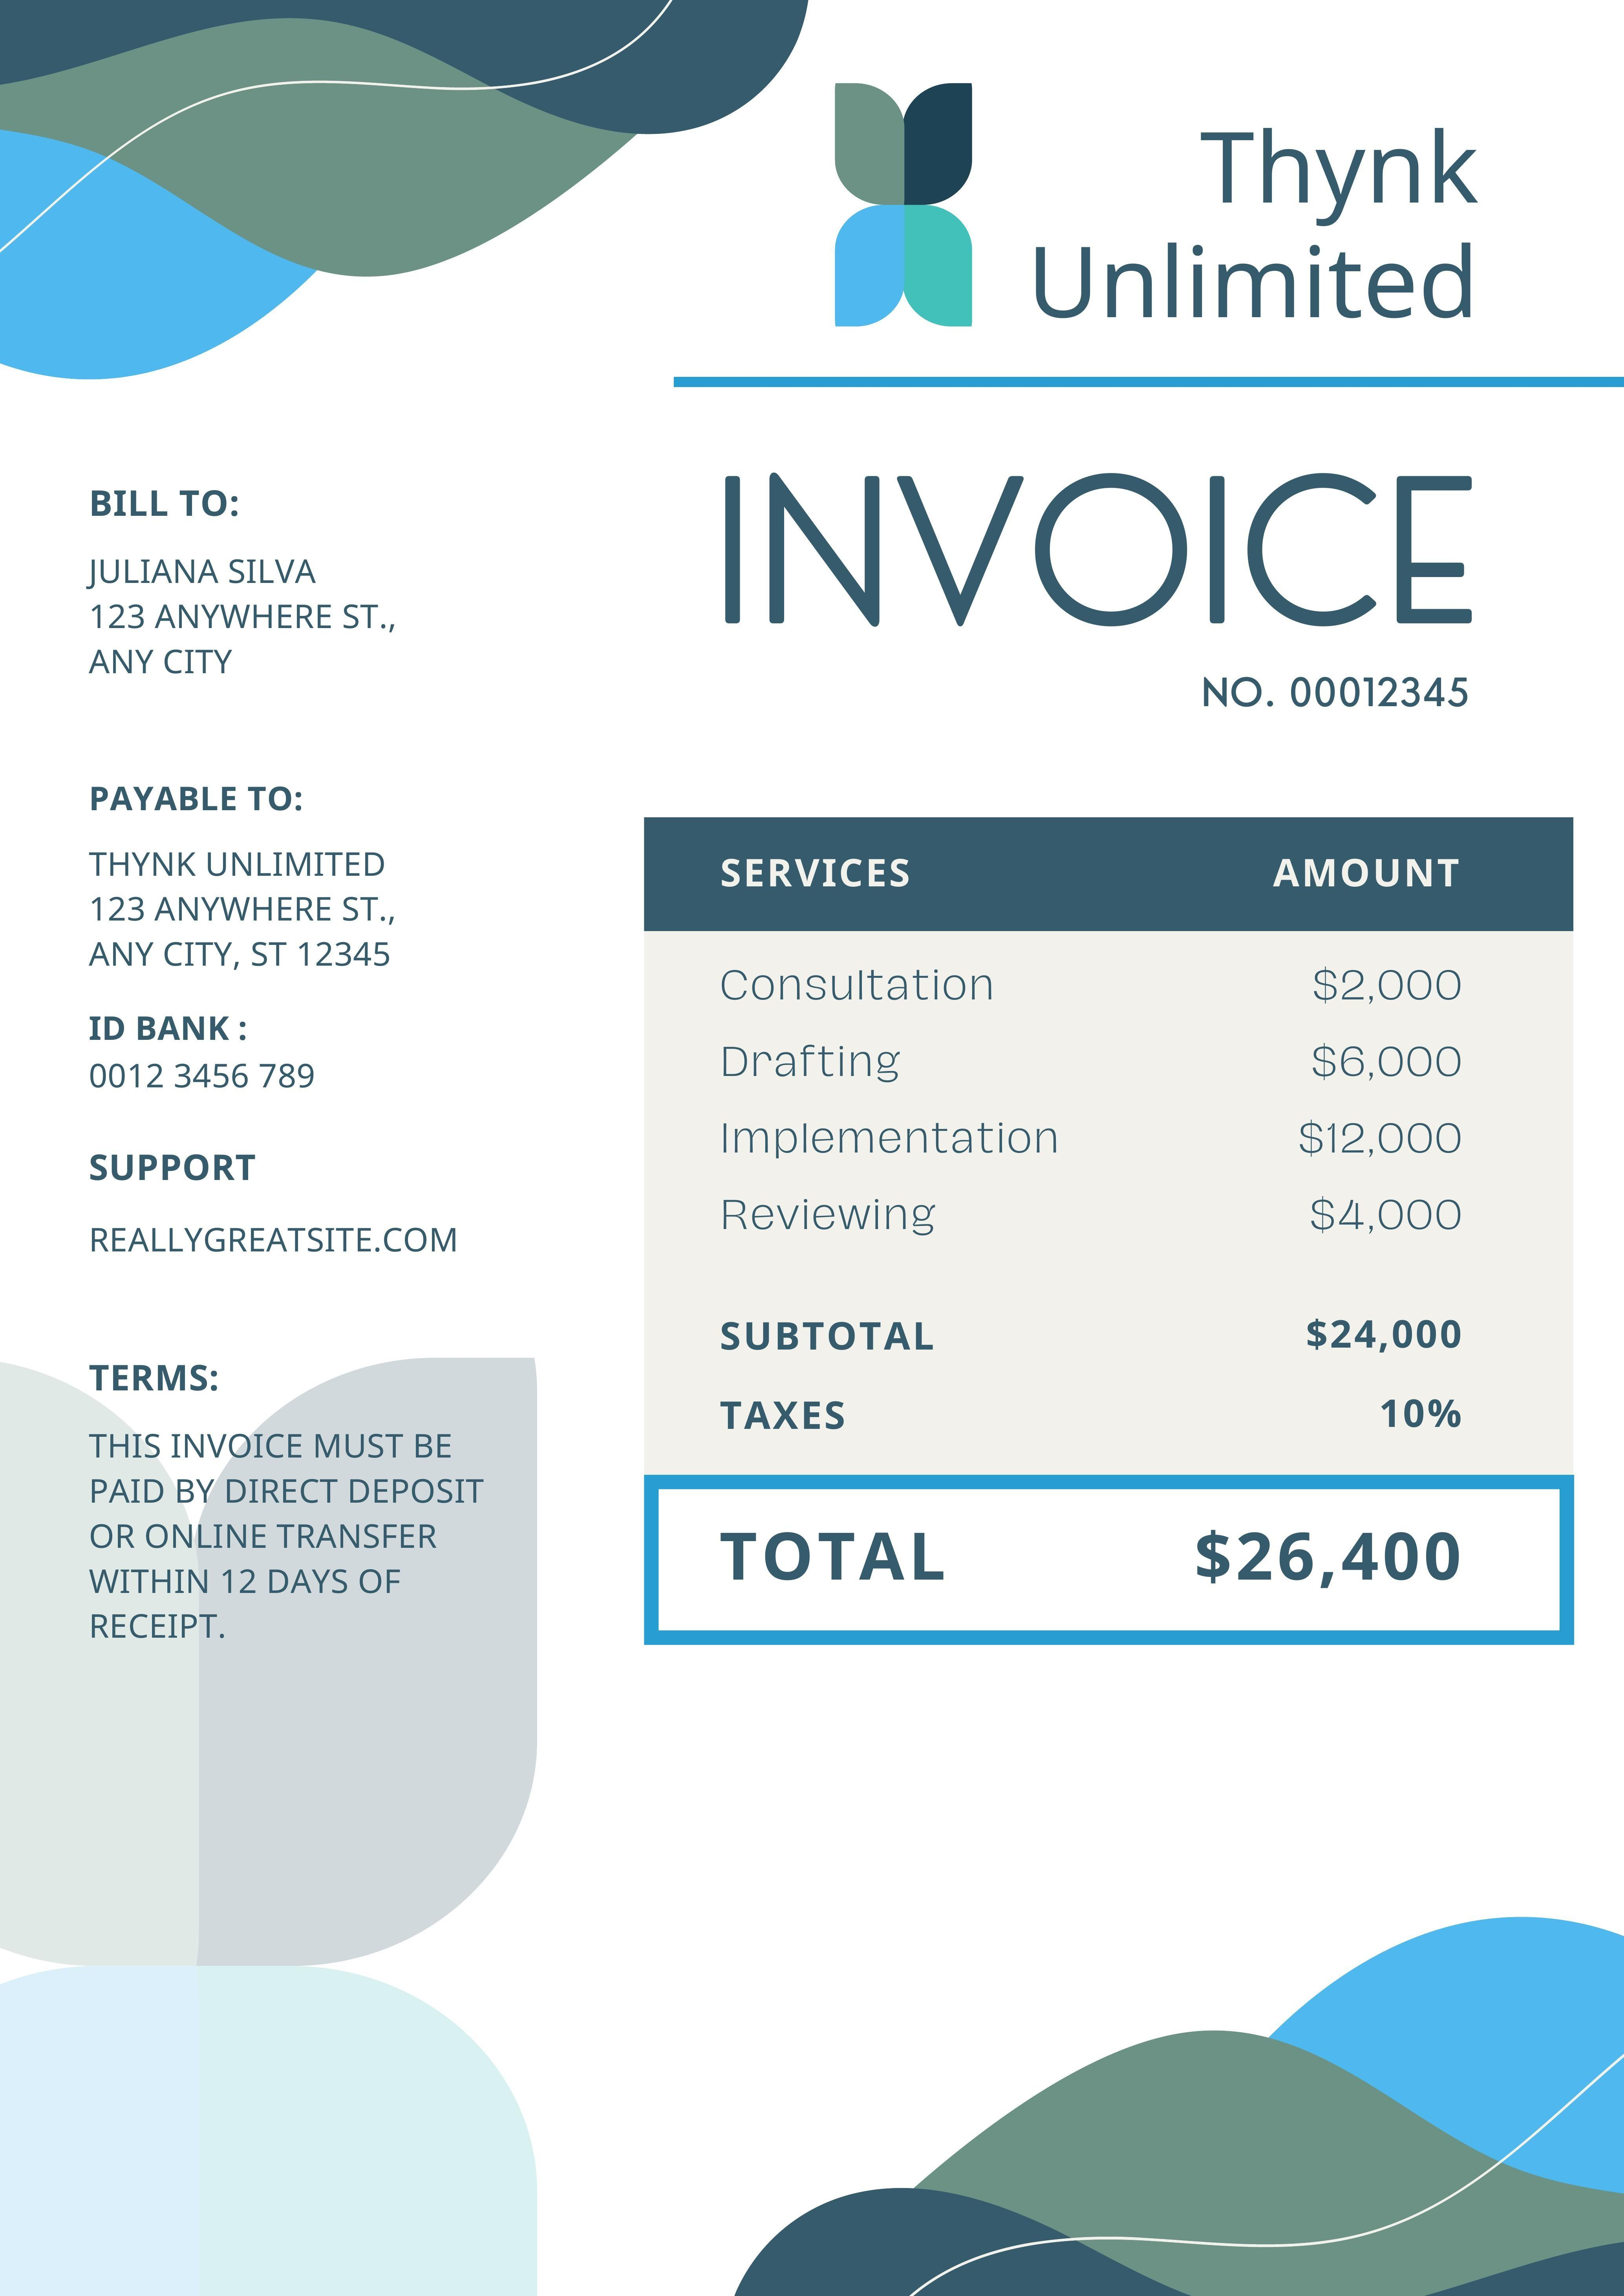ROI: (694, 843, 1501, 1251), (700, 1299, 1517, 1611), (1017, 90, 1520, 342), (89, 772, 459, 1099), (59, 467, 397, 707), (1190, 656, 1496, 718)
